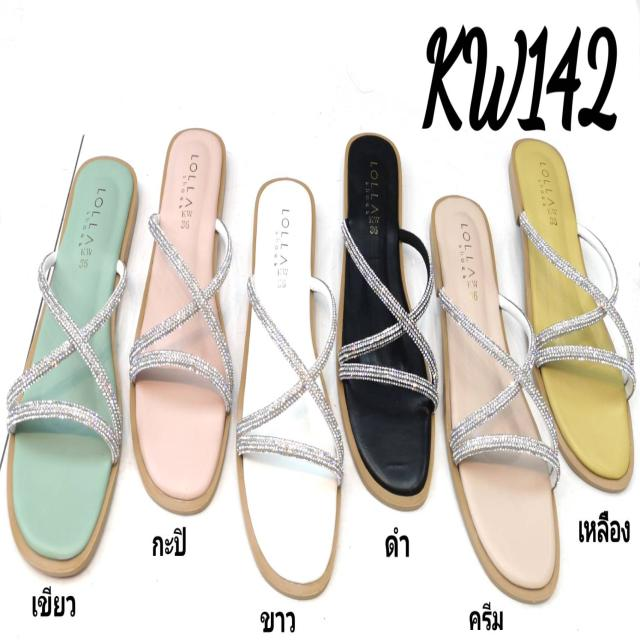black: (339, 131, 438, 504)
cream: (431, 194, 564, 605)
green: (9, 151, 134, 579)
kapi: (130, 126, 227, 519)
white: (245, 176, 335, 594)
yellow: (512, 139, 638, 494)
